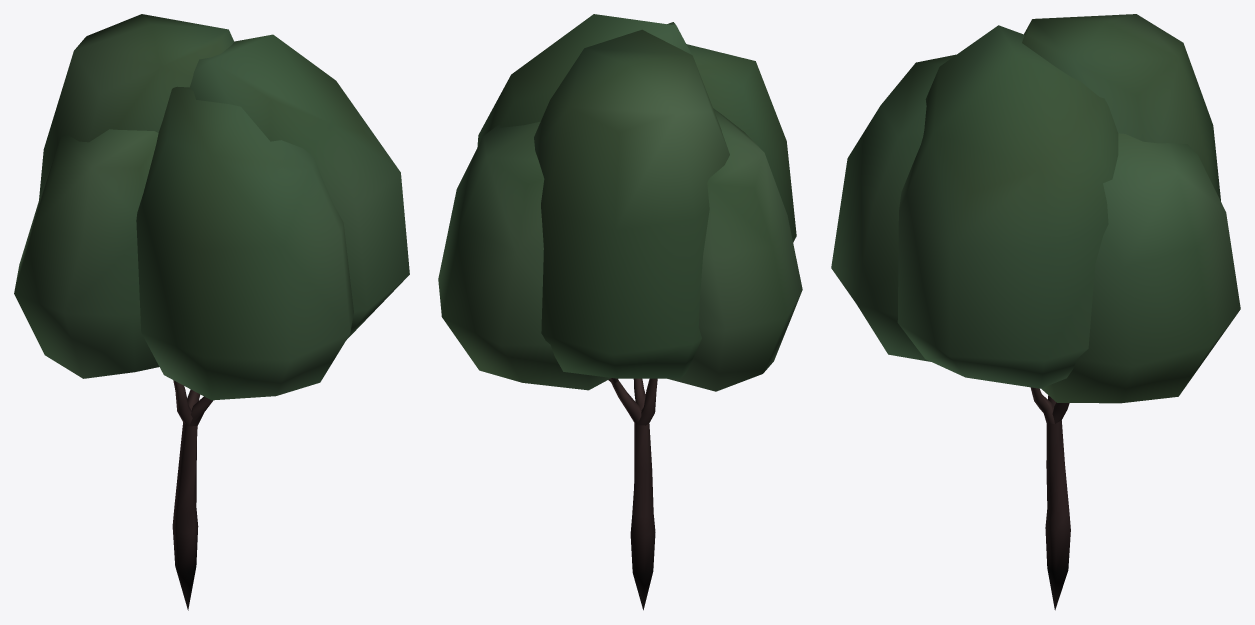
The model's file is trees-broadleaf-trees-round-leafy-tree_v2.glb.
3 renders of one model, left to right at view 1: azimuth 30°, elevation 25°; view 2: azimuth 150°, elevation 25°; view 3: azimuth 270°, elevation 25°, orthographic. The views are drawn at different scales.
Parts seen in each view (by area): view 1: Round Leafy Tree_v2; view 2: Round Leafy Tree_v2; view 3: Round Leafy Tree_v2.
Boxes of the visible parts, bbox=[...] form: Round Leafy Tree_v2: bbox=[14, 14, 409, 610]; Round Leafy Tree_v2: bbox=[438, 14, 802, 610]; Round Leafy Tree_v2: bbox=[831, 14, 1240, 610].
Size of the model in its own units: 6.18 by 10 by 6.35.
